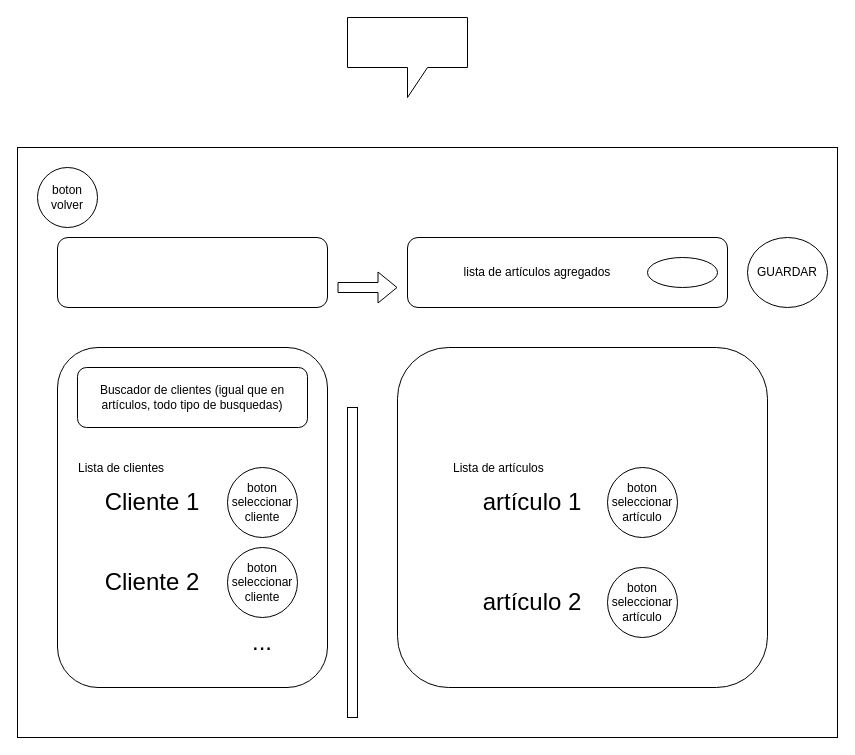
This 855x755 diagram has some shape labels left out. The shapes that lost their labels are listed below. From the top down, each one's centre as x and y in pixels, then its label:
(407,57): ORDERS SECTION
(192,272): cliente seleccionado
(682,272): eliminar artículo
